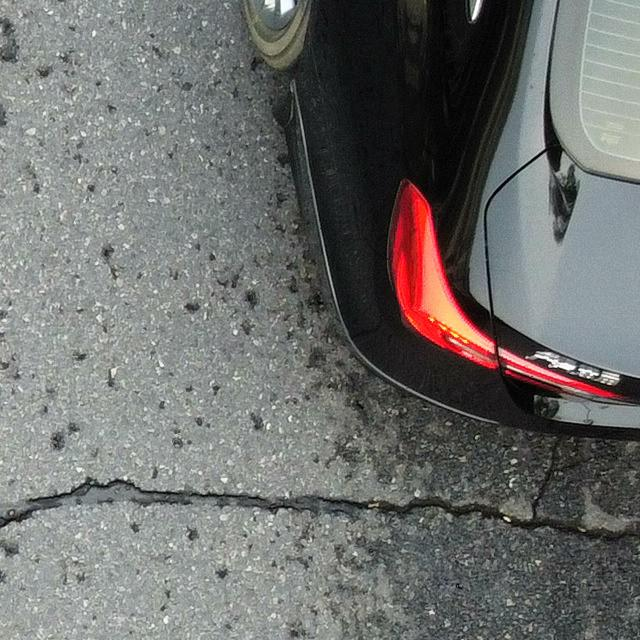TransverseCrack: (2, 480, 640, 545)
